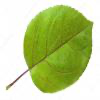Apple leaf: (21, 2, 95, 97)
